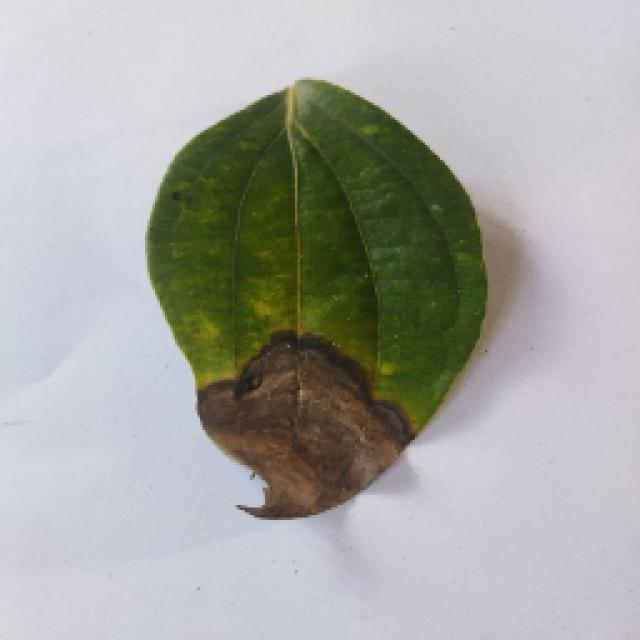footrot: (130, 70, 500, 522)
